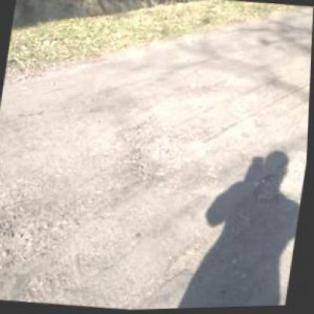Hueco: (130, 131, 210, 188), (117, 111, 174, 146)
